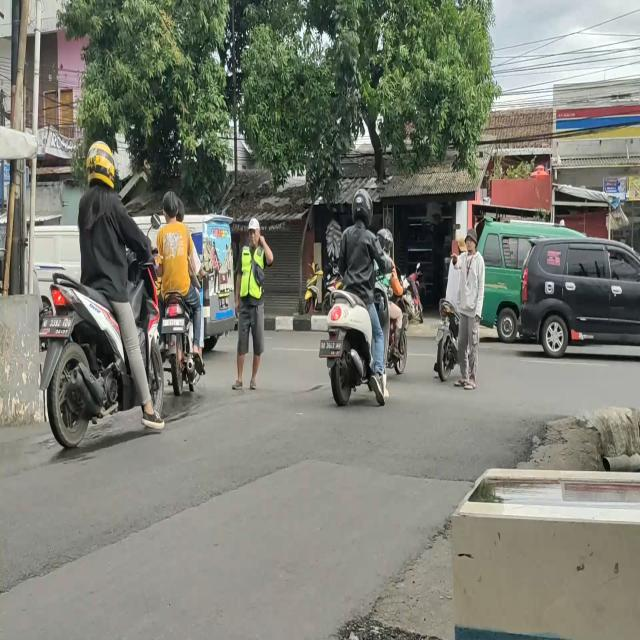helmet: (88, 139, 115, 189), (353, 188, 372, 221), (379, 228, 392, 250)
no-helmet: (160, 194, 179, 220), (176, 196, 184, 222)
